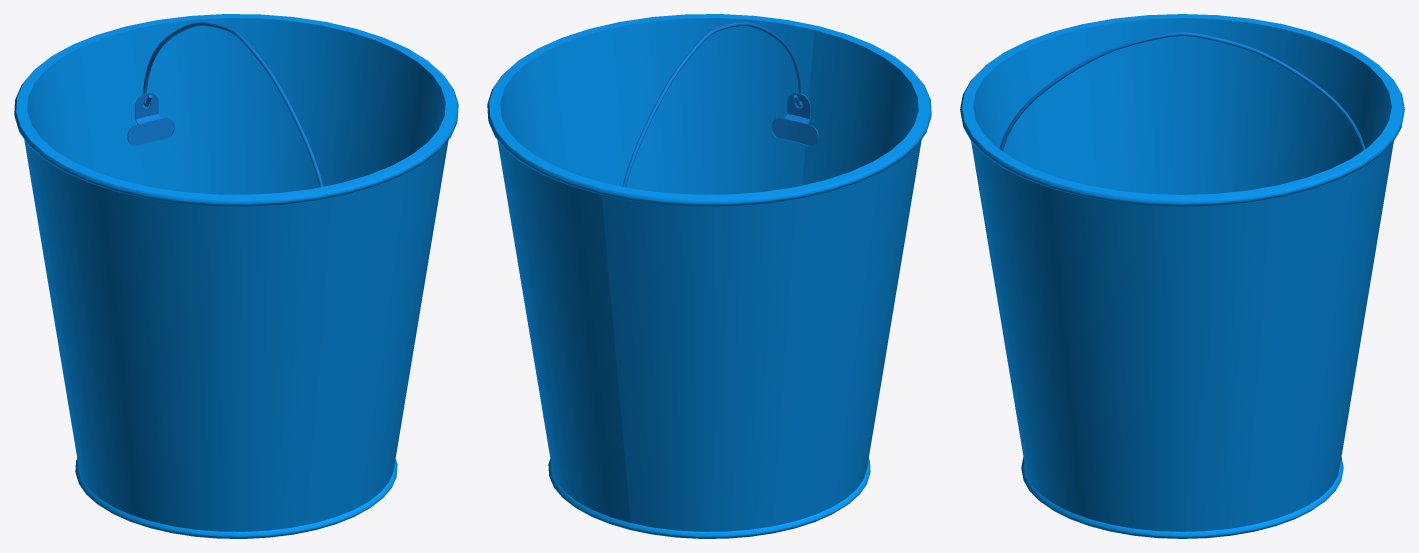
Rendered from bucket.fbx.
The picture shows the model from 3 angles, left to right: view 1: azimuth 30°, elevation 25°; view 2: azimuth 150°, elevation 25°; view 3: azimuth 270°, elevation 25°; orthographic projection.
Visible parts, largest first — view 1: _3_low, _2_low, _1_low; view 2: _3_low, _2_low, _1_low; view 3: _3_low, _1_low.
Boxes of the visible parts, x1,y1,x2,y2 form: _3_low: [14, 14, 458, 538]; _2_low: [127, 92, 174, 146]; _1_low: [143, 22, 323, 187]; _3_low: [487, 14, 931, 538]; _2_low: [771, 92, 818, 146]; _1_low: [622, 22, 802, 187]; _3_low: [960, 14, 1404, 538]; _1_low: [999, 32, 1365, 151].
Size of the model in its own units: 41.98 by 45.81 by 41.98.
